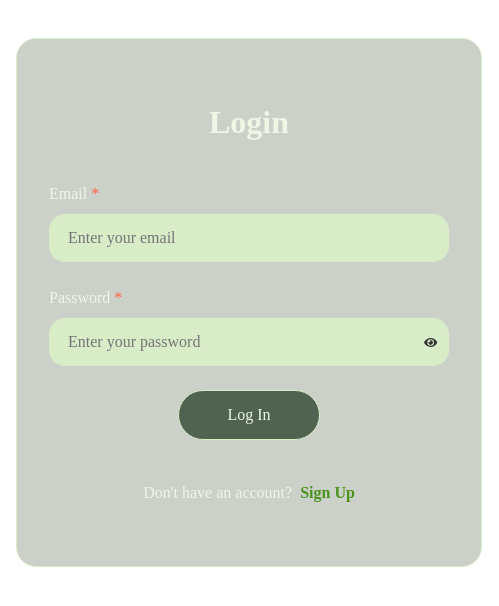
Scenario: <LoginForm/> component › Render LoginForm component - Password error message - invalid password format (no numbers)
Type "qweqweqweqwe!QQ" into the password field with placeholder "Enter your password".
click(249, 342); type("qweqweqweqwe!QQ")  # box top-left (49, 318), bottom-right (449, 366)
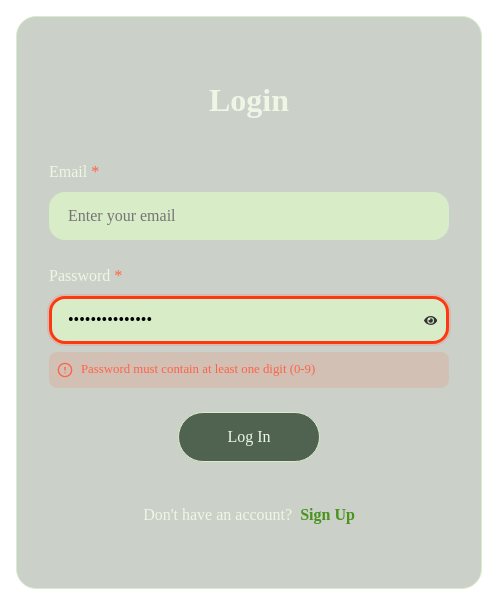
Now the text "Password must contain at least one digit (0-9)" is shown, box top-left (81, 362), bottom-right (315, 377)
Now the text with test id "error-input-password-test-id" reads "Password must contain at least one digit (0-9)", box top-left (81, 362), bottom-right (315, 376)
